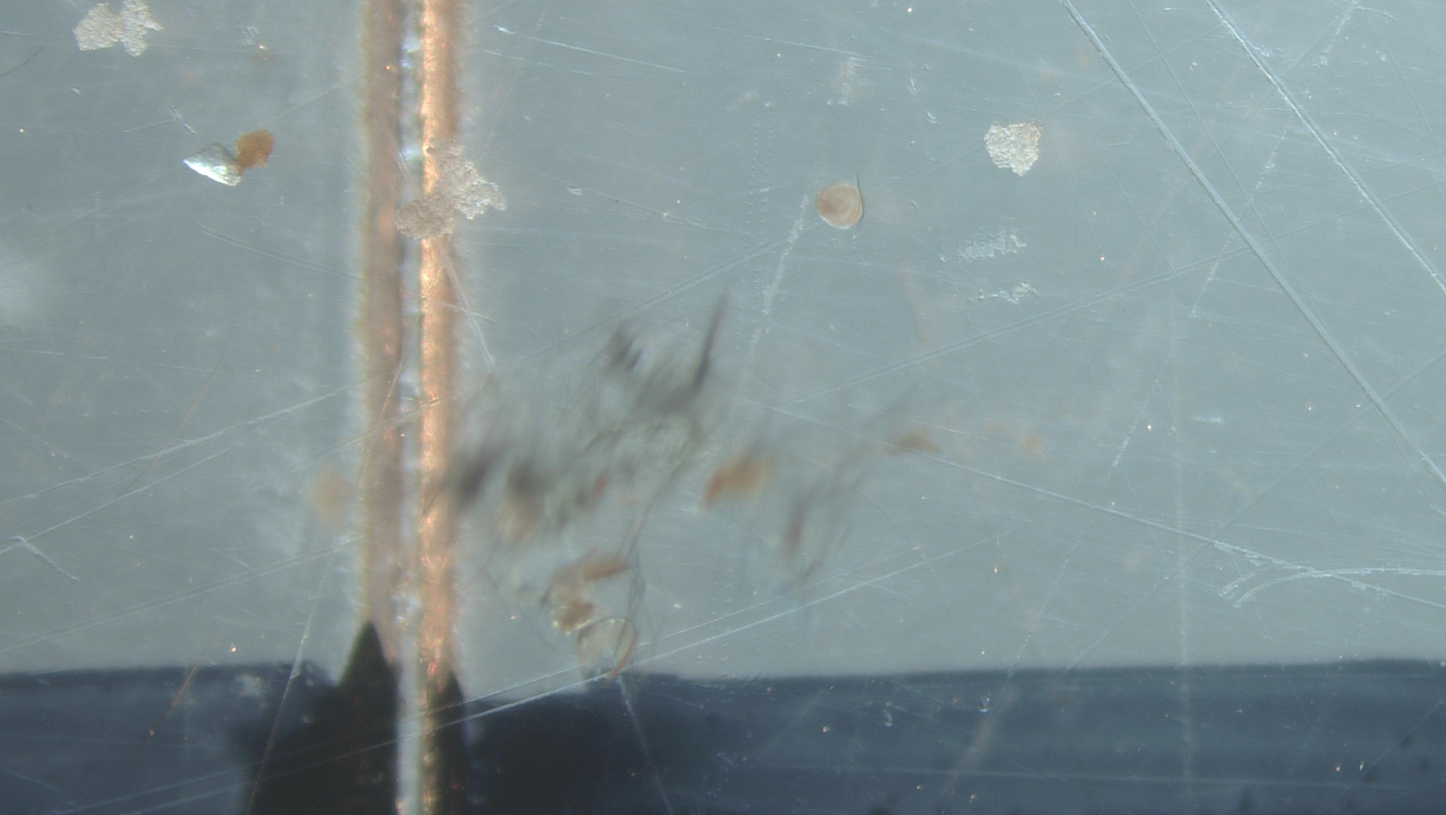live: (815, 183, 864, 230)
